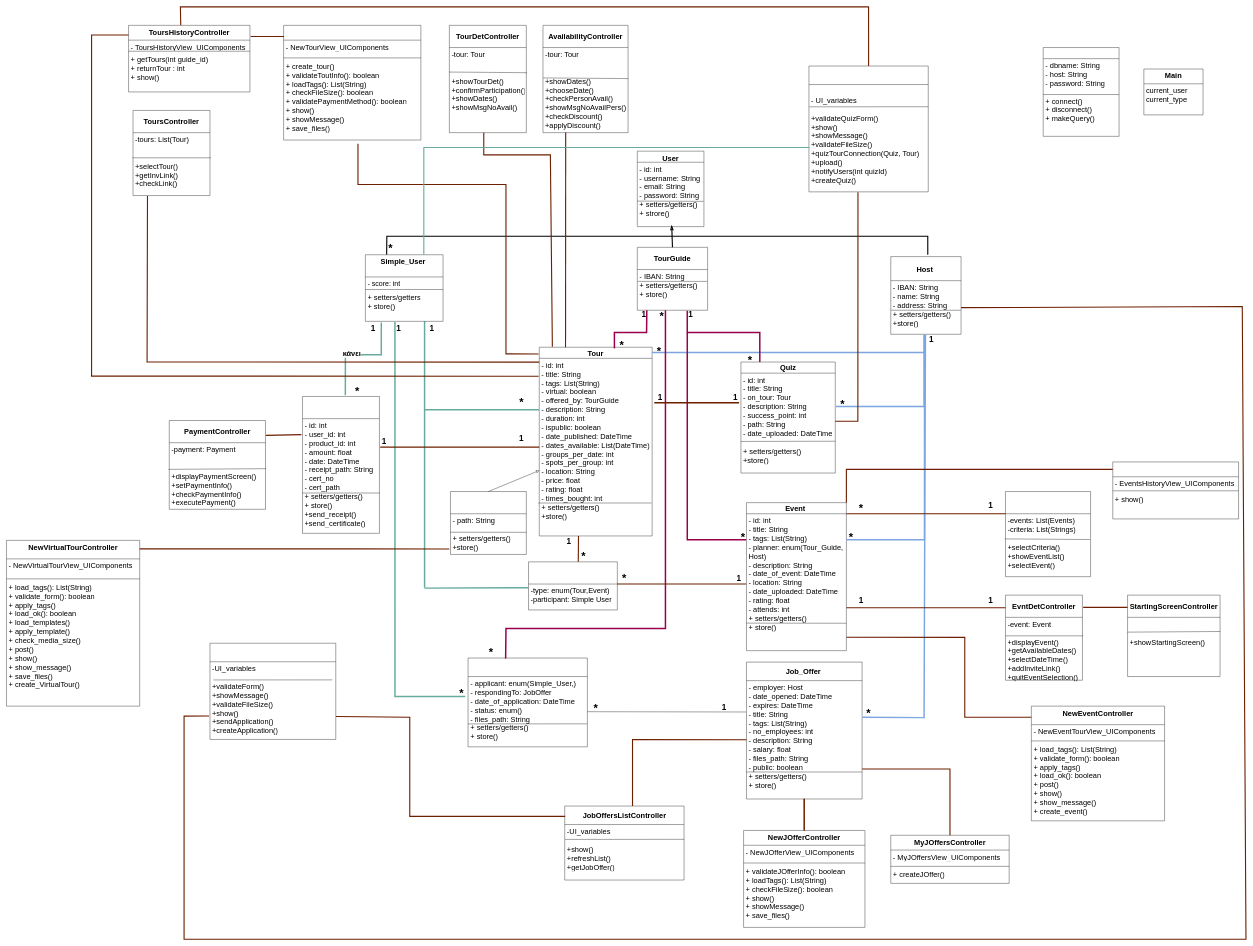
Image size: 1253x946. Some labels were removed from this diagram. The shapes that lost their labels are listed below. From the top down, each one's box as (x1, y1, x2, y2) in pixels, then its label:
(283, 25, 421, 140): NewTourController
(1043, 47, 1119, 136): DBcommunicator
(809, 66, 928, 192): NewQuizController
(302, 396, 379, 533): Payment
(1112, 462, 1239, 519): EventsHistoryController
(450, 491, 526, 554): Virtual_Tour
(1005, 491, 1091, 577): EventsController
(528, 561, 617, 610): Participation
(210, 643, 336, 739): JobApplicationController
(468, 658, 587, 747): Job_Application
